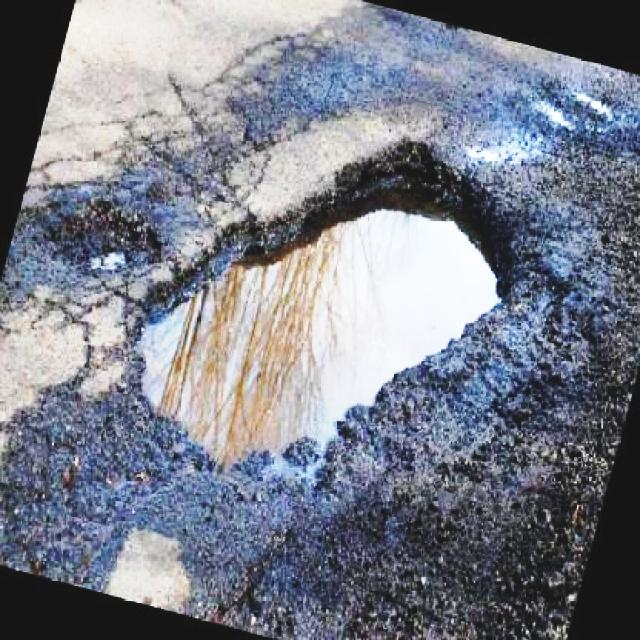pothole: (119, 134, 556, 491), (39, 192, 166, 283)
